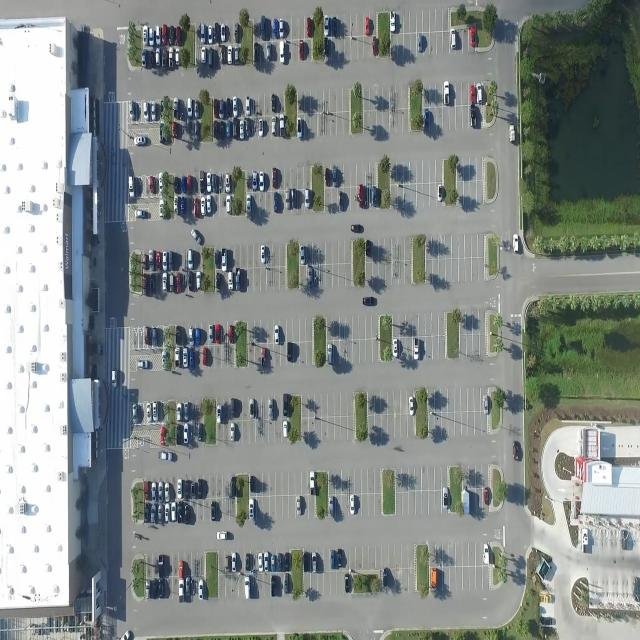car: (282, 392, 290, 417), (191, 228, 202, 246), (278, 112, 286, 136), (581, 527, 588, 554), (357, 183, 364, 209), (160, 450, 173, 463), (234, 265, 241, 289), (178, 578, 185, 602), (272, 189, 279, 212), (158, 171, 165, 194), (411, 337, 418, 360), (244, 576, 251, 599), (196, 422, 204, 442), (449, 28, 456, 50), (260, 15, 266, 40), (326, 341, 332, 366), (176, 423, 182, 448), (431, 568, 437, 593), (538, 617, 553, 627), (389, 10, 396, 31), (213, 321, 220, 342), (111, 369, 118, 390), (183, 400, 190, 421), (248, 398, 255, 419), (408, 395, 415, 416), (231, 552, 238, 573), (508, 123, 515, 144), (470, 105, 476, 129), (198, 166, 204, 190), (175, 269, 181, 293), (286, 340, 292, 364), (158, 554, 164, 578), (370, 185, 377, 205), (158, 199, 165, 219), (213, 246, 220, 266), (175, 402, 182, 422), (216, 530, 230, 540), (363, 296, 377, 306), (279, 41, 285, 64), (232, 92, 238, 115), (272, 167, 278, 190), (291, 186, 297, 209), (205, 168, 211, 191), (129, 176, 135, 199), (183, 423, 189, 446), (184, 504, 190, 527), (146, 579, 152, 602), (198, 578, 204, 601), (483, 543, 489, 566), (436, 185, 443, 204), (172, 193, 179, 212), (148, 175, 155, 194), (133, 131, 145, 142), (186, 96, 192, 118), (296, 115, 302, 137), (470, 84, 476, 106), (476, 83, 482, 105), (252, 170, 258, 192), (284, 186, 290, 208), (225, 173, 231, 195), (187, 245, 193, 267), (260, 346, 266, 368), (161, 350, 167, 372), (136, 359, 148, 370), (152, 400, 158, 422), (327, 495, 333, 517), (164, 481, 170, 503), (157, 481, 163, 503), (144, 502, 150, 524), (150, 504, 156, 526), (164, 504, 170, 526), (177, 501, 183, 523), (311, 550, 317, 572), (382, 568, 388, 590), (310, 470, 315, 496), (200, 22, 206, 43), (298, 39, 304, 60), (324, 165, 330, 186), (338, 189, 344, 210), (168, 269, 174, 290), (160, 425, 166, 446), (229, 422, 235, 443), (170, 502, 176, 523), (159, 577, 165, 598), (185, 576, 191, 597), (513, 233, 519, 254), (513, 440, 519, 461), (443, 486, 448, 511), (134, 209, 145, 220), (142, 26, 148, 46), (306, 15, 312, 35), (324, 12, 329, 36), (129, 100, 135, 120), (226, 94, 232, 114), (232, 118, 238, 138), (423, 107, 429, 127), (304, 188, 310, 208), (200, 197, 206, 217), (205, 192, 211, 212), (149, 275, 155, 295), (162, 272, 168, 292), (221, 244, 226, 268), (260, 242, 266, 262), (280, 264, 286, 284), (392, 339, 398, 359), (274, 325, 280, 345), (200, 344, 206, 364), (131, 402, 137, 422), (146, 400, 151, 424), (230, 397, 236, 417), (144, 481, 150, 501), (270, 576, 276, 596), (540, 593, 552, 603), (444, 81, 449, 104), (249, 497, 254, 520), (154, 43, 160, 62), (168, 43, 174, 62), (175, 27, 181, 46), (220, 23, 226, 42), (225, 120, 231, 139), (245, 115, 251, 134), (148, 249, 154, 268), (155, 250, 161, 269), (215, 269, 221, 288), (144, 325, 150, 344), (268, 399, 274, 418), (150, 482, 156, 501), (178, 561, 184, 580), (257, 553, 263, 572), (344, 574, 350, 593), (239, 120, 244, 142), (259, 170, 264, 192), (194, 198, 199, 220), (142, 272, 147, 294), (152, 325, 157, 347), (483, 394, 488, 416), (296, 495, 301, 517), (211, 500, 216, 522), (284, 572, 289, 594), (303, 551, 308, 573), (120, 629, 130, 640), (148, 28, 154, 46), (417, 33, 423, 51), (179, 193, 185, 211), (168, 252, 174, 270), (226, 269, 232, 287), (306, 266, 312, 284), (190, 480, 196, 498), (184, 481, 190, 499), (276, 553, 282, 571), (284, 552, 290, 570), (162, 24, 167, 45), (471, 27, 476, 48), (151, 101, 156, 122), (219, 98, 224, 119), (332, 164, 337, 185), (162, 250, 167, 271), (174, 344, 179, 365), (188, 347, 193, 368), (177, 479, 182, 500), (142, 253, 148, 270), (484, 488, 490, 505), (224, 555, 230, 572), (141, 44, 146, 64), (169, 25, 174, 45), (208, 46, 213, 66), (227, 45, 232, 65), (234, 23, 239, 43), (273, 18, 278, 38), (194, 99, 199, 119), (258, 116, 263, 136), (246, 192, 251, 212), (216, 404, 221, 424), (158, 504, 163, 524), (348, 494, 353, 514), (351, 224, 362, 233), (270, 556, 276, 572), (208, 25, 213, 44), (143, 102, 148, 121), (271, 92, 276, 111), (227, 323, 232, 342), (174, 323, 179, 342), (194, 324, 199, 343), (283, 420, 288, 439), (330, 549, 335, 568), (187, 268, 192, 287), (272, 113, 276, 136), (175, 44, 180, 62), (213, 120, 218, 138), (173, 172, 178, 190), (180, 172, 185, 190), (186, 171, 191, 189), (197, 478, 202, 496), (365, 238, 370, 256), (174, 98, 178, 120), (264, 550, 268, 572), (226, 196, 231, 213), (254, 43, 258, 64), (300, 243, 304, 264), (182, 344, 186, 365), (156, 25, 160, 45), (162, 44, 166, 64), (214, 23, 218, 43), (366, 15, 370, 35), (373, 35, 377, 55), (214, 99, 218, 119), (212, 170, 216, 190), (208, 321, 212, 341), (221, 46, 225, 65), (235, 45, 239, 64), (280, 19, 284, 38), (333, 15, 337, 34), (196, 268, 200, 287), (246, 552, 250, 571), (338, 549, 342, 568), (201, 47, 206, 62), (149, 46, 153, 64), (188, 325, 192, 343), (324, 36, 328, 53), (267, 44, 271, 60), (172, 118, 176, 134), (220, 118, 223, 136)
free_space: (426, 412, 434, 437), (370, 314, 378, 338), (391, 314, 399, 338), (424, 336, 432, 360), (458, 335, 466, 359), (326, 470, 334, 494), (368, 546, 376, 570), (394, 568, 402, 592), (428, 544, 436, 568), (455, 543, 463, 567), (468, 465, 476, 489), (469, 489, 476, 516), (291, 15, 299, 38), (390, 33, 398, 56), (462, 31, 470, 54), (252, 266, 260, 289), (298, 264, 306, 287), (194, 396, 202, 419), (392, 414, 400, 437), (398, 391, 406, 414), (278, 318, 286, 341), (430, 336, 438, 359), (464, 312, 472, 335), (217, 551, 225, 574), (414, 468, 422, 491), (310, 110, 317, 136), (330, 186, 337, 212), (195, 21, 203, 43), (304, 37, 312, 59), (422, 85, 430, 107), (296, 188, 304, 210), (336, 164, 344, 186), (462, 182, 470, 204), (470, 236, 478, 258), (432, 390, 440, 412), (452, 390, 460, 412), (246, 342, 254, 364), (304, 318, 312, 340), (404, 314, 412, 336), (430, 314, 438, 336), (216, 498, 224, 520), (348, 547, 356, 569), (448, 568, 456, 590), (304, 112, 311, 137), (476, 180, 483, 205), (300, 392, 307, 417), (300, 415, 307, 440), (332, 339, 339, 364), (358, 338, 365, 363), (364, 314, 371, 339), (165, 552, 172, 577), (408, 567, 415, 592), (266, 14, 273, 38), (331, 35, 338, 59), (344, 34, 351, 58), (351, 34, 358, 58), (410, 32, 417, 56), (297, 88, 304, 112), (329, 110, 336, 134), (336, 110, 343, 134), (363, 108, 370, 132), (436, 106, 443, 130), (462, 106, 469, 130), (324, 186, 331, 210), (435, 161, 443, 182), (154, 268, 161, 292), (240, 266, 247, 290), (272, 265, 279, 289), (344, 262, 351, 286), (365, 261, 372, 285), (438, 259, 445, 283), (451, 258, 458, 282), (464, 258, 471, 282), (476, 237, 484, 258), (215, 418, 222, 442), (260, 394, 267, 418), (339, 392, 346, 416), (339, 415, 346, 439), (366, 391, 373, 415), (373, 414, 380, 438), (399, 413, 406, 437), (426, 389, 433, 413), (453, 411, 460, 435), (466, 388, 473, 412), (213, 342, 220, 366), (253, 340, 260, 364), (338, 316, 345, 340), (345, 315, 352, 339), (371, 338, 378, 362), (405, 336, 412, 360), (478, 334, 485, 358), (255, 496, 262, 520), (346, 469, 353, 493), (366, 469, 373, 493), (340, 493, 348, 514), (310, 570, 317, 594), (355, 546, 362, 570), (362, 546, 369, 570), (388, 545, 395, 569), (408, 544, 415, 568), (387, 568, 394, 592), (401, 568, 408, 592), (436, 567, 443, 591), (442, 567, 449, 591), (475, 543, 482, 567), (462, 567, 469, 591), (482, 565, 489, 589), (469, 567, 476, 591), (408, 468, 415, 492), (435, 490, 442, 514), (195, 45, 202, 68), (253, 16, 260, 39), (285, 15, 292, 38), (357, 12, 364, 35), (370, 11, 377, 34), (397, 33, 404, 56), (423, 32, 430, 55), (317, 111, 324, 134), (212, 191, 219, 214), (278, 190, 285, 213), (390, 185, 397, 208), (422, 183, 429, 206), (456, 182, 463, 205), (312, 263, 319, 286), (331, 263, 338, 286), (378, 261, 385, 284), (425, 260, 432, 283), (444, 259, 451, 282), (404, 260, 411, 283), (241, 418, 248, 441), (247, 419, 254, 442), (273, 417, 280, 440), (313, 393, 320, 416), (313, 416, 320, 439), (326, 393, 333, 416), (326, 416, 333, 439), (379, 391, 386, 414), (386, 391, 393, 414), (386, 414, 393, 437), (433, 412, 440, 435), (466, 412, 473, 435), (266, 341, 273, 364), (285, 317, 292, 340), (298, 341, 305, 364), (332, 316, 339, 339), (398, 337, 405, 360), (458, 312, 465, 335), (471, 312, 478, 335), (465, 335, 472, 358), (170, 477, 177, 500), (190, 500, 197, 523), (282, 472, 289, 495), (334, 471, 341, 494), (340, 470, 347, 493), (353, 470, 360, 493), (373, 470, 380, 493), (195, 550, 202, 573), (231, 574, 238, 597), (317, 572, 324, 595), (317, 548, 324, 571), (449, 543, 456, 566), (395, 469, 402, 492), (395, 492, 402, 515), (421, 468, 428, 491), (441, 467, 448, 490), (475, 465, 482, 488), (482, 465, 489, 488), (285, 40, 292, 62), (298, 14, 305, 36), (344, 12, 351, 34), (357, 35, 364, 57), (397, 11, 404, 33), (404, 33, 411, 55), (409, 10, 416, 32), (423, 10, 430, 32), (436, 10, 443, 32), (436, 32, 443, 54), (443, 32, 450, 54), (323, 88, 330, 110), (382, 87, 389, 109), (376, 110, 383, 132), (429, 107, 436, 129), (429, 85, 436, 107), (455, 84, 462, 106), (475, 106, 482, 128), (252, 191, 259, 213), (245, 168, 252, 190), (246, 266, 253, 288), (344, 240, 351, 262), (371, 262, 378, 284), (384, 261, 391, 283), (371, 239, 378, 261), (431, 260, 438, 282), (457, 236, 464, 258), (464, 236, 471, 258), (477, 258, 484, 280), (404, 238, 411, 260), (221, 396, 228, 418), (273, 396, 280, 418), (332, 393, 339, 415), (379, 415, 386, 437), (392, 391, 399, 413), (406, 414, 413, 436), (446, 390, 453, 412), (200, 321, 207, 343), (193, 343, 200, 365), (279, 342, 286, 364), (298, 318, 305, 340), (305, 341, 312, 363), (398, 314, 405, 336), (411, 314, 418, 336), (424, 314, 431, 336), (201, 474, 208, 496), (214, 474, 221, 496), (262, 472, 269, 494), (275, 472, 282, 494), (288, 472, 295, 494), (308, 495, 315, 517), (172, 554, 179, 576), (165, 577, 172, 599), (182, 551, 189, 573), (258, 574, 265, 596), (323, 548, 330, 570), (342, 548, 349, 570), (395, 546, 402, 568), (442, 544, 449, 566), (152, 578, 159, 600), (428, 468, 435, 490), (434, 468, 441, 490), (462, 466, 469, 488), (174, 250, 182, 269), (344, 185, 350, 210), (146, 553, 152, 578), (238, 573, 244, 598), (324, 571, 330, 596), (442, 9, 449, 30), (245, 93, 252, 114), (264, 92, 271, 113), (336, 89, 343, 110), (469, 160, 476, 181), (233, 244, 240, 265), (305, 242, 312, 263), (431, 238, 438, 259), (444, 238, 451, 259), (353, 494, 360, 515), (366, 494, 373, 515), (334, 494, 341, 515), (238, 552, 245, 573), (304, 88, 310, 112), (324, 110, 330, 134), (383, 108, 389, 132), (443, 106, 449, 130), (416, 183, 422, 207), (429, 182, 435, 206), (470, 180, 476, 204), (260, 265, 266, 289), (338, 262, 344, 286), (235, 418, 241, 442), (267, 417, 273, 441), (307, 416, 313, 440), (320, 416, 326, 440), (346, 415, 352, 439), (440, 412, 446, 436), (447, 412, 453, 436), (460, 412, 466, 436), (473, 388, 479, 412), (228, 342, 234, 366), (326, 316, 332, 340), (438, 336, 444, 360), (472, 334, 478, 358), (204, 498, 210, 522), (269, 496, 275, 520), (289, 495, 295, 519), (153, 553, 159, 577), (172, 576, 178, 600), (304, 570, 310, 594), (330, 571, 336, 595), (376, 545, 382, 569), (402, 544, 408, 568), (276, 573, 282, 597), (402, 468, 408, 492), (272, 42, 279, 62), (277, 92, 284, 112), (389, 164, 396, 184), (396, 164, 403, 184), (403, 164, 410, 184), (422, 162, 429, 182), (318, 243, 325, 263), (384, 240, 391, 260), (230, 498, 237, 518), (373, 494, 380, 514), (227, 21, 233, 44), (338, 35, 344, 58), (430, 9, 436, 32), (343, 110, 349, 133), (363, 87, 369, 110), (396, 108, 402, 131), (449, 106, 455, 129), (219, 191, 225, 214), (259, 192, 265, 215), (266, 191, 272, 214), (350, 186, 356, 209), (356, 163, 362, 186), (397, 184, 403, 207), (410, 184, 416, 207), (456, 159, 462, 182), (194, 245, 200, 268), (240, 243, 246, 266), (253, 243, 259, 266), (266, 242, 272, 265), (266, 265, 272, 288), (278, 242, 284, 265), (325, 263, 331, 286), (438, 237, 444, 260), (451, 236, 457, 259), (458, 258, 464, 281), (471, 258, 477, 281), (222, 419, 228, 442), (241, 395, 247, 418), (260, 418, 266, 441), (307, 393, 313, 416), (320, 393, 326, 416), (346, 392, 352, 415), (367, 415, 373, 438), (373, 391, 379, 414), (460, 389, 466, 412), (480, 412, 486, 435), (247, 318, 253, 341), (266, 318, 272, 341), (273, 341, 279, 364), (352, 316, 358, 339), (352, 339, 358, 362), (358, 315, 364, 338), (365, 338, 371, 361), (418, 336, 424, 359), (418, 314, 424, 337), (223, 497, 229, 520), (256, 472, 262, 495), (269, 472, 275, 495), (294, 471, 300, 494), (262, 495, 268, 518), (282, 495, 288, 518), (302, 494, 308, 517), (360, 470, 366, 493), (189, 551, 195, 574), (218, 575, 224, 598), (264, 574, 270, 597), (337, 572, 343, 595), (382, 546, 388, 569), (462, 544, 468, 567), (476, 566, 482, 589), (409, 491, 415, 514), (416, 491, 422, 514), (422, 490, 428, 513), (429, 491, 435, 514), (476, 489, 482, 512), (331, 244, 338, 263), (214, 46, 220, 68), (292, 40, 298, 62), (338, 13, 344, 35), (430, 32, 436, 54), (180, 99, 186, 121), (181, 120, 187, 142), (186, 117, 192, 139), (239, 92, 245, 114), (258, 92, 264, 114), (265, 113, 271, 135), (310, 88, 316, 110), (317, 89, 323, 111), (370, 88, 376, 110), (376, 88, 382, 110), (396, 86, 402, 108), (402, 86, 408, 108), (449, 84, 455, 106), (456, 107, 462, 129), (462, 84, 468, 106), (193, 169, 199, 191), (284, 166, 290, 188), (291, 166, 297, 188), (298, 166, 304, 188), (350, 164, 356, 186), (416, 162, 422, 184), (429, 160, 435, 182), (463, 160, 469, 182), (227, 244, 233, 266), (246, 243, 252, 265), (272, 242, 278, 264), (312, 242, 318, 264), (319, 263, 325, 285), (378, 239, 384, 261), (425, 238, 431, 260), (138, 402, 144, 424), (234, 396, 240, 418), (333, 416, 339, 438), (440, 390, 446, 412), (473, 412, 479, 434), (253, 319, 259, 341), (260, 319, 266, 341), (292, 318, 298, 340), (292, 341, 298, 363), (346, 340, 352, 362), (478, 313, 484, 335), (197, 500, 203, 522), (208, 474, 214, 496), (221, 473, 227, 495), (276, 496, 282, 518), (360, 493, 366, 515), (226, 574, 232, 596), (456, 568, 462, 590), (469, 544, 475, 566), (260, 42, 266, 63), (351, 13, 357, 34), (364, 35, 370, 56), (404, 11, 410, 32), (417, 10, 423, 31), (343, 89, 349, 110), (402, 109, 408, 130), (436, 85, 442, 106), (136, 101, 142, 122), (187, 192, 193, 213), (265, 168, 271, 189), (278, 167, 284, 188), (343, 165, 349, 186), (410, 163, 416, 184), (476, 160, 482, 181), (221, 267, 227, 288), (160, 399, 166, 420), (181, 322, 187, 343), (438, 314, 444, 335), (302, 472, 308, 493), (208, 341, 213, 366), (252, 93, 258, 113), (330, 89, 336, 109), (370, 110, 376, 130), (303, 166, 309, 186), (325, 243, 331, 263), (457, 31, 462, 54), (437, 544, 442, 567), (137, 176, 142, 198), (338, 244, 344, 262), (404, 185, 409, 206)
